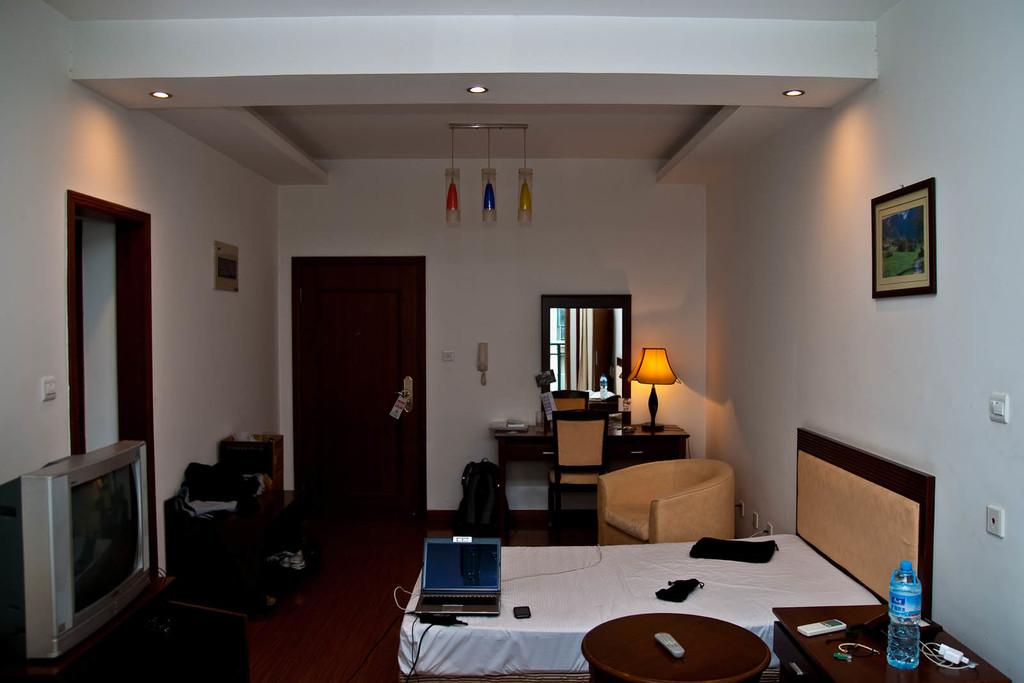Computer-monitor: (0, 437, 153, 660)
Laptop: (414, 535, 502, 616)
